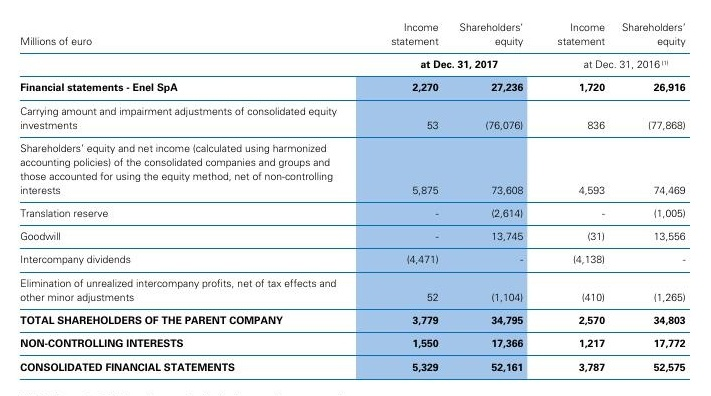table: (0, 0, 711, 396)
